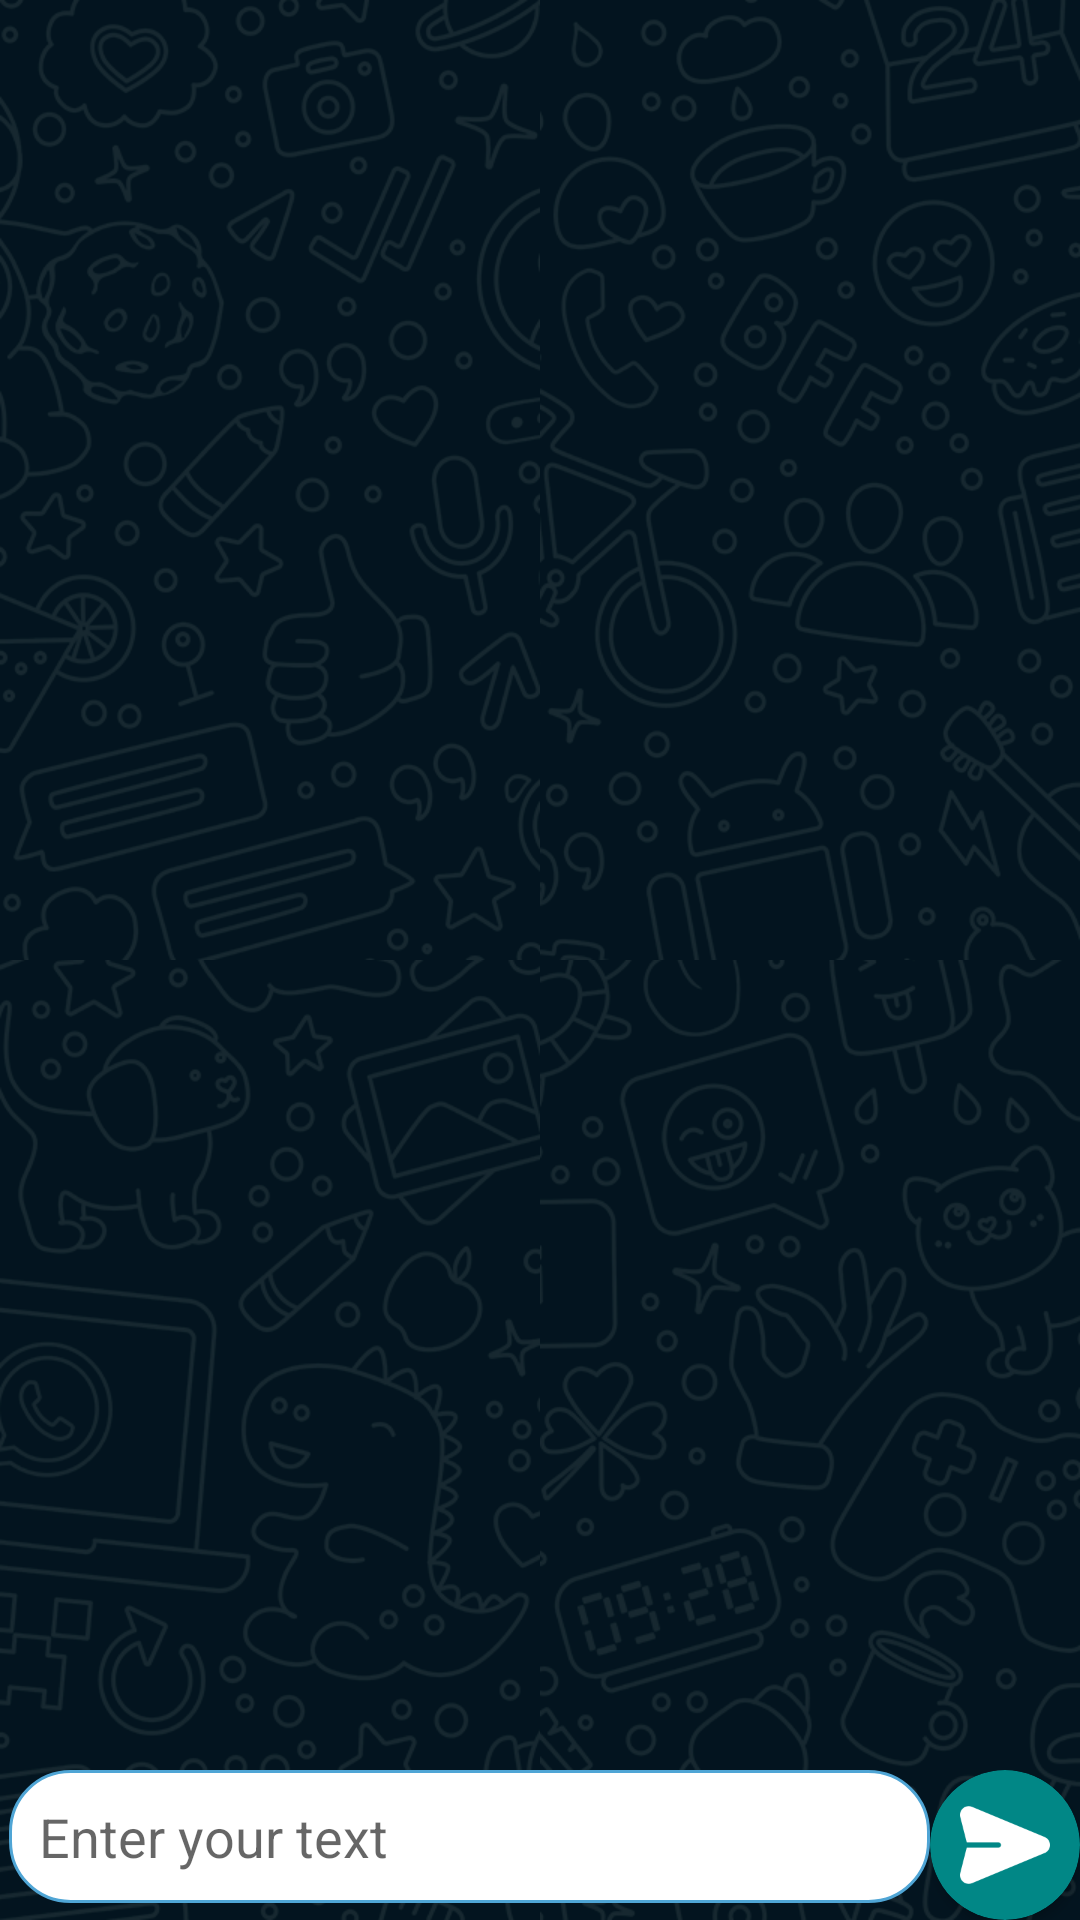

Where to tap for icons on this 1080 x 1920 app screen, as (x,y):
send: (1005,1845)
